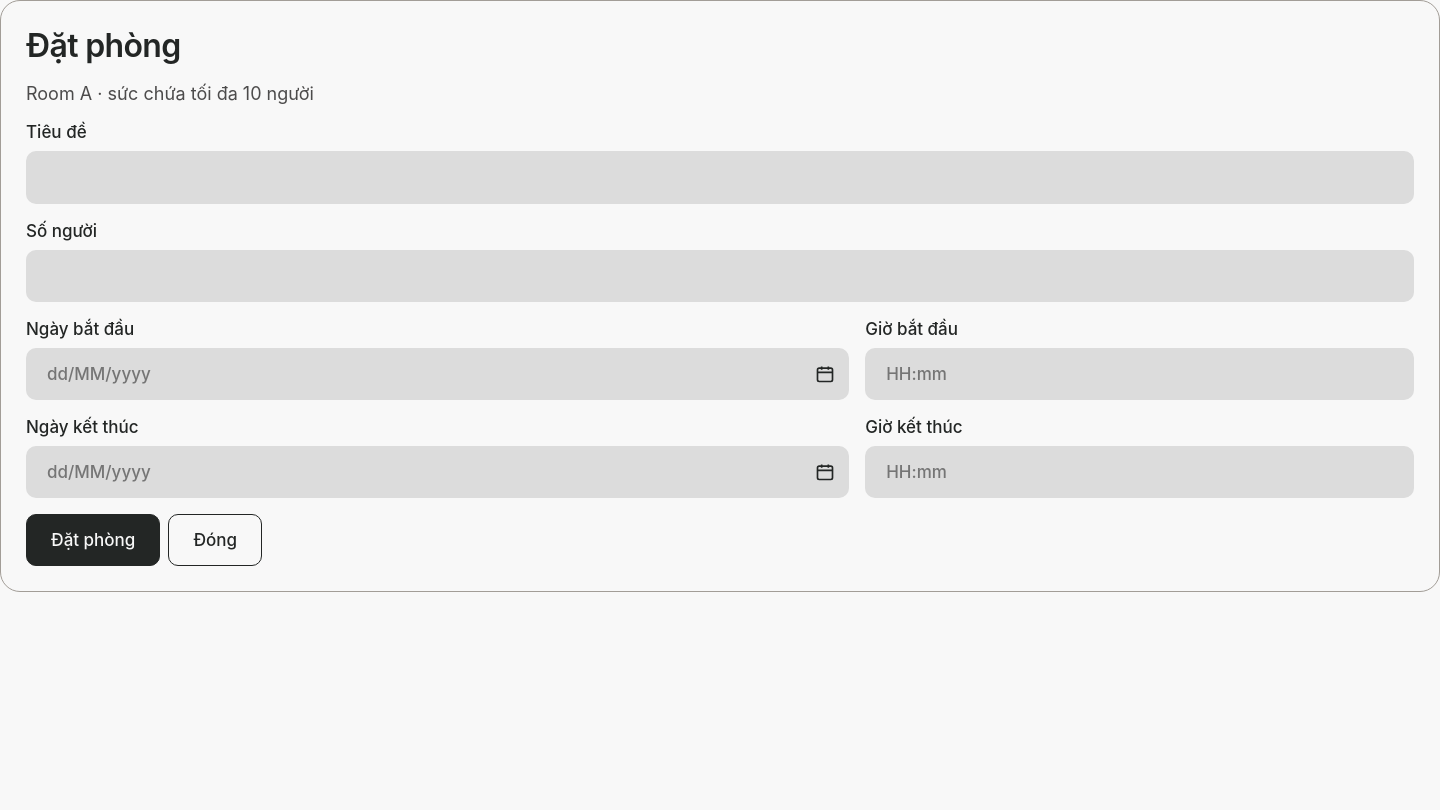
it: BookingForm: đặt mới (A3) › BR1: giờ kết thúc không sau giờ bắt đầu thì không gọi API
Type "Họp" into the field labelled "Tiêu đề".
click(720, 178); type("Họp")  # box x1=26 y1=152 x2=1414 y2=204
Type "5" into the field labelled "Số người".
click(720, 276); type("5")  # box x1=26 y1=250 x2=1414 y2=302
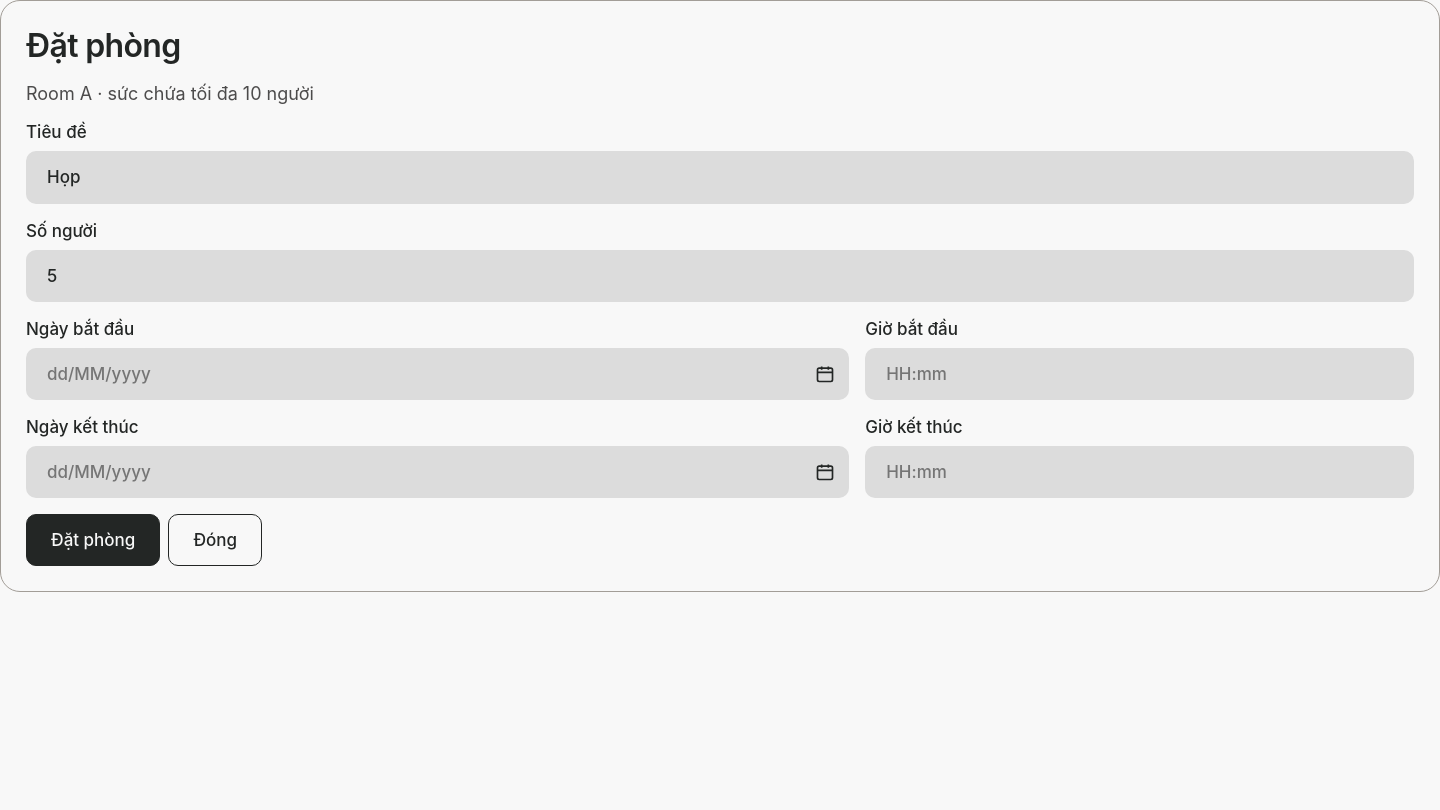
Type "22/10/2026" into the field labelled "Ngày bắt đầu".
click(438, 374); type("22/10/2026")  # box x1=26 y1=348 x2=849 y2=400
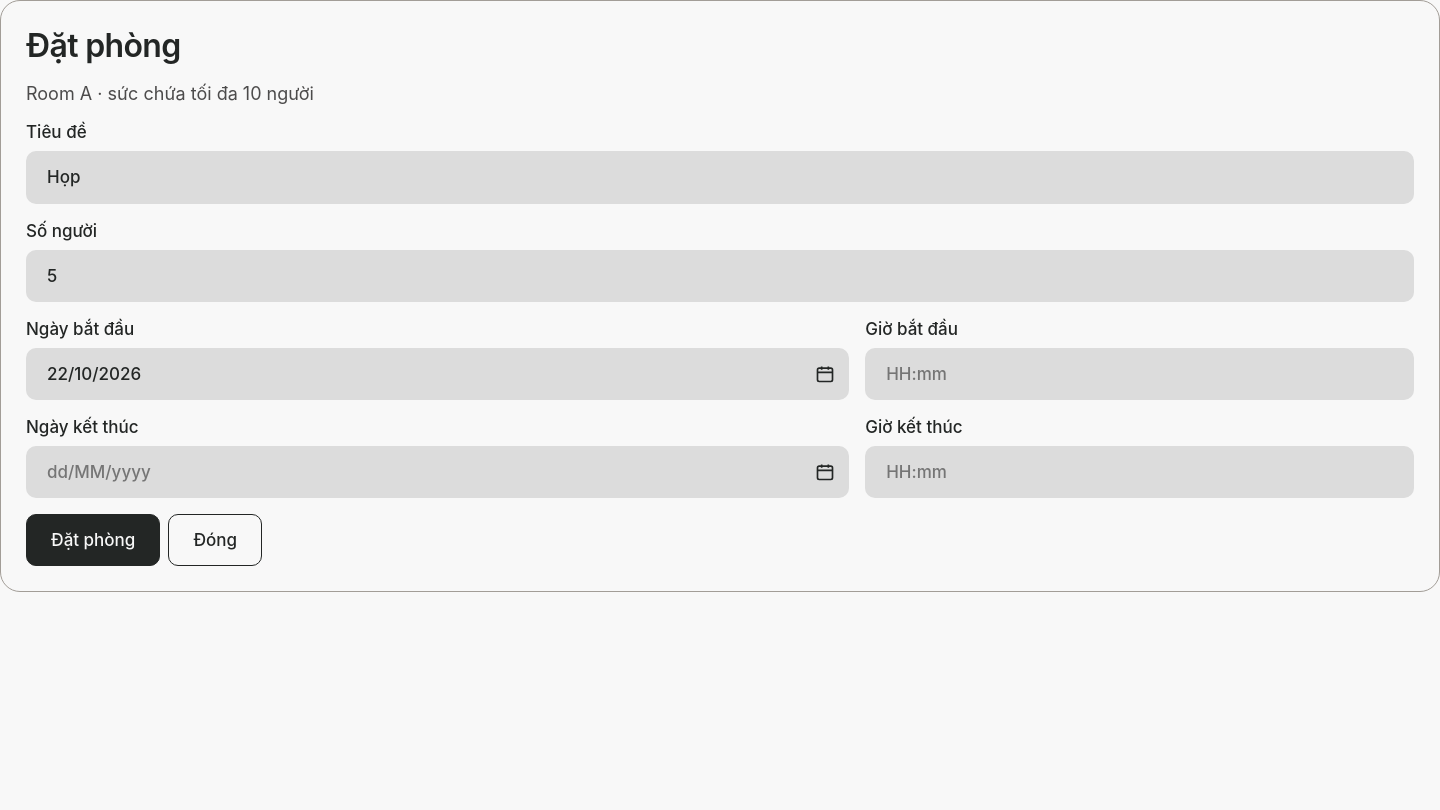
Type "10:00" into the field labelled "Giờ bắt đầu".
click(1140, 374); type("10:00")  # box x1=865 y1=348 x2=1414 y2=400
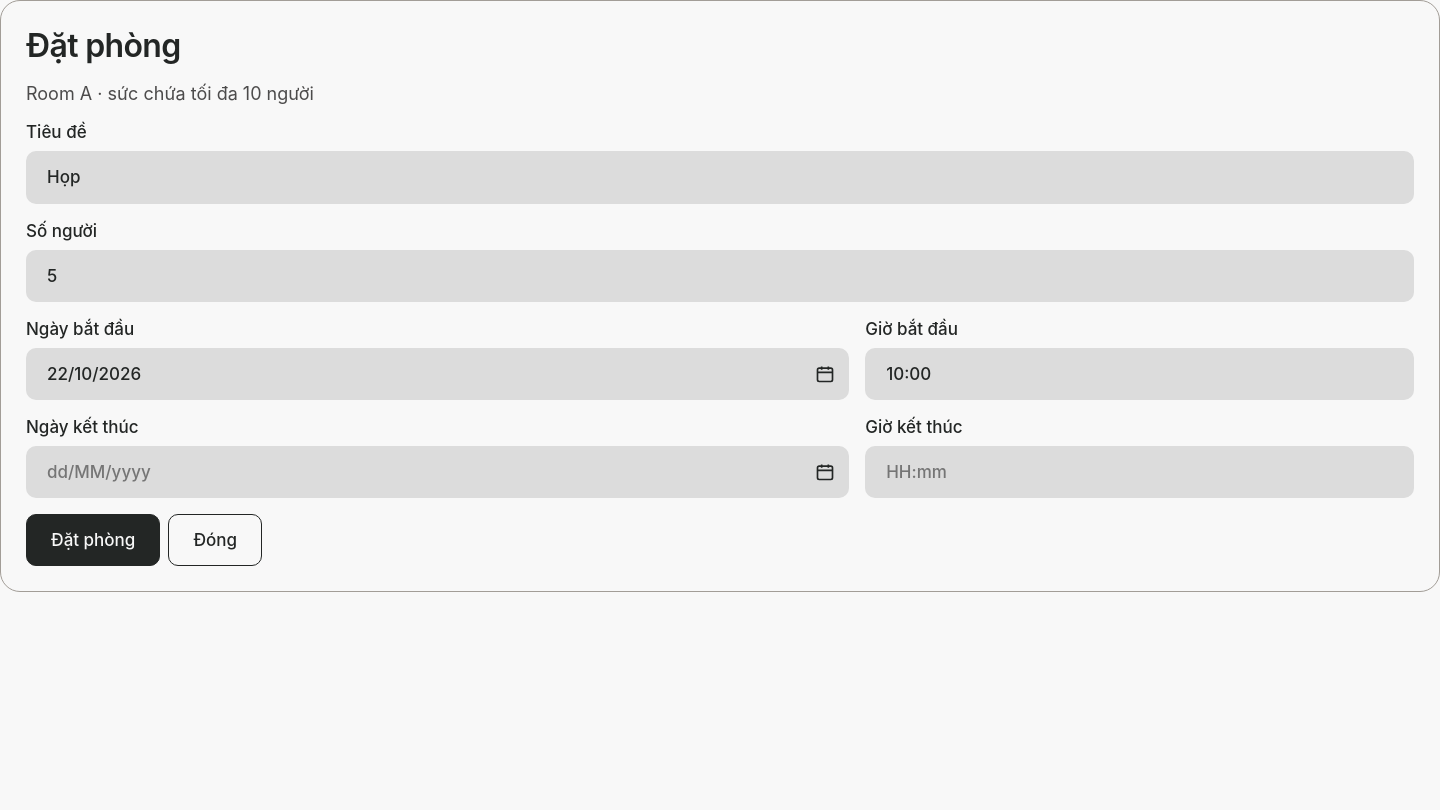
Type "22/10/2026" into the field labelled "Ngày kết thúc".
click(438, 472); type("22/10/2026")  # box x1=26 y1=446 x2=849 y2=498
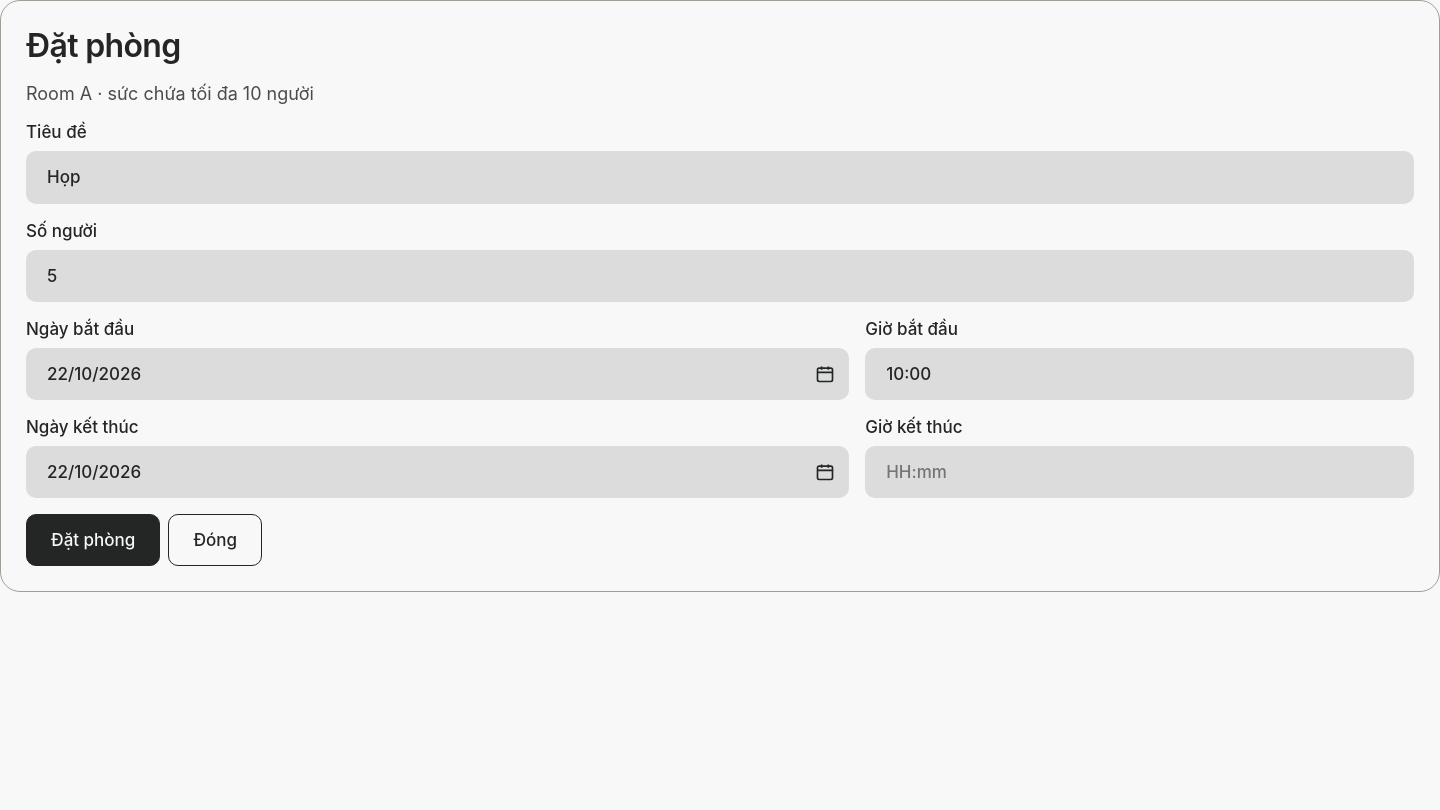
Type "09:00" into the field labelled "Giờ kết thúc".
click(1140, 472); type("09:00")  # box x1=865 y1=446 x2=1414 y2=498
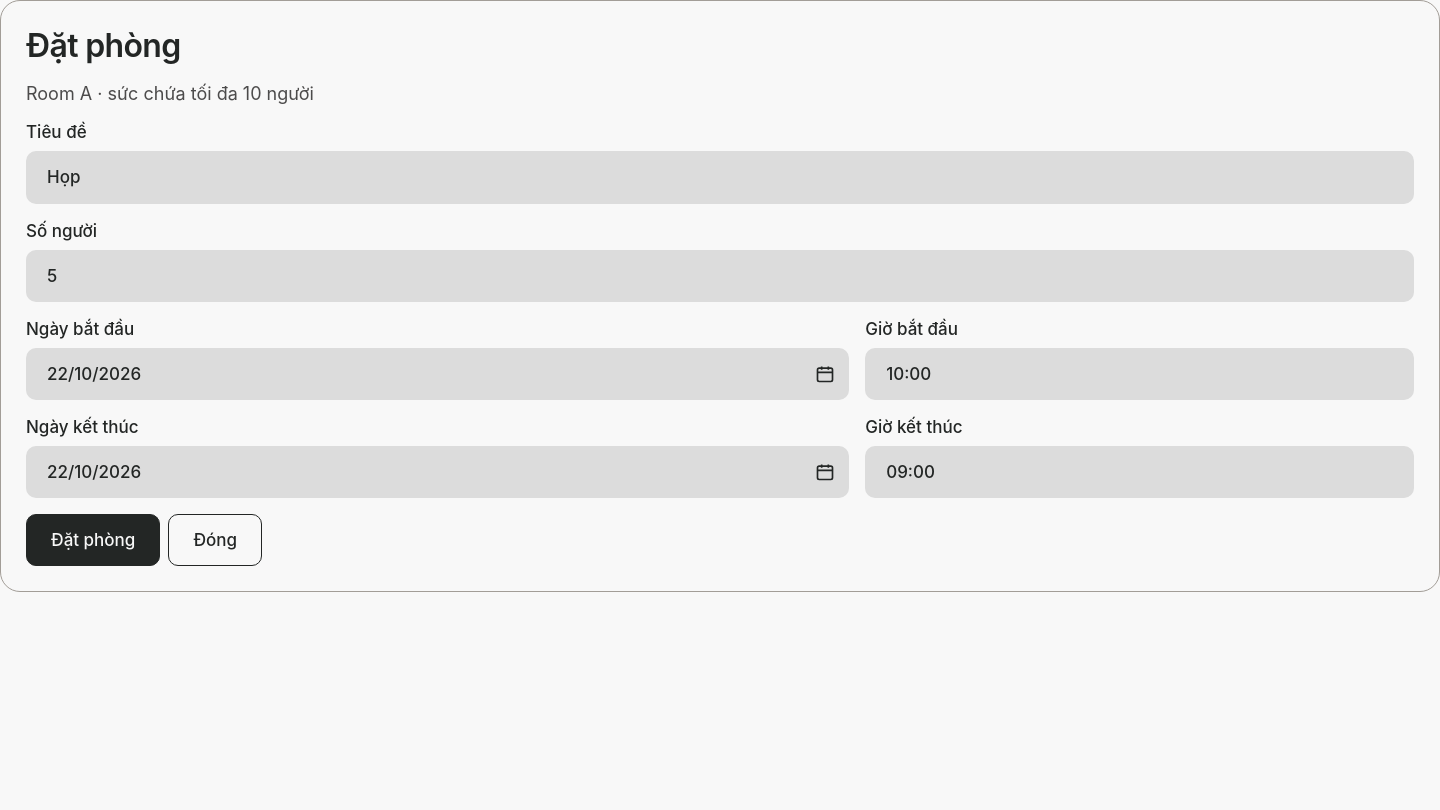
Click the button "Đặt phòng".
click(93, 540)  # box x1=26 y1=514 x2=160 y2=566
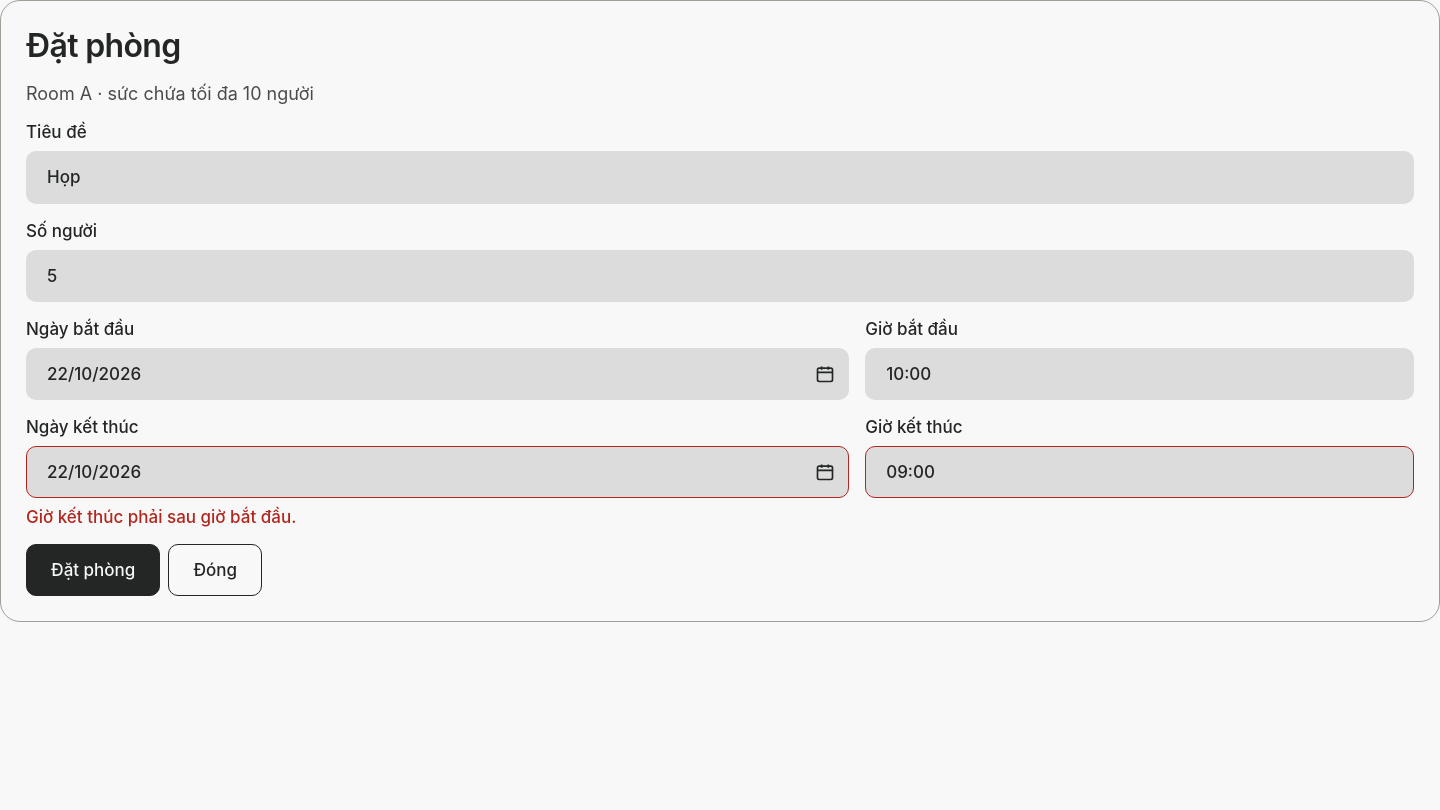
Check: the message reads "Giờ kết thúc phải sau giờ bắt đầu.", box x1=26 y1=507 x2=296 y2=527
